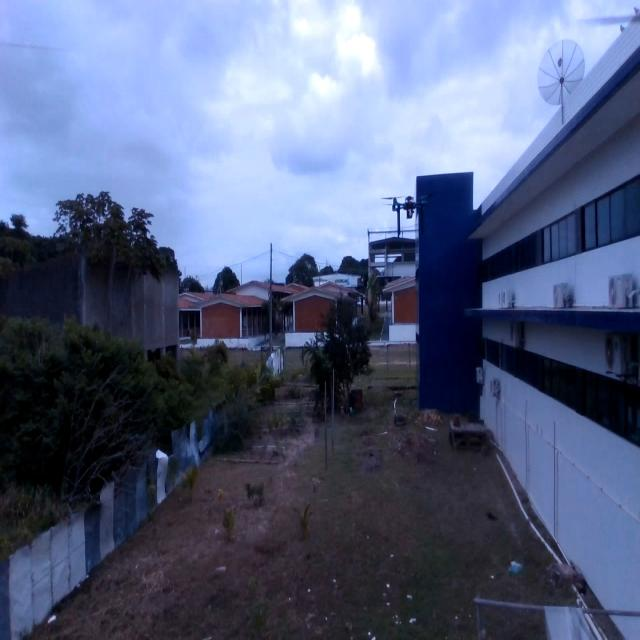-uav-: (379, 178, 439, 241)
